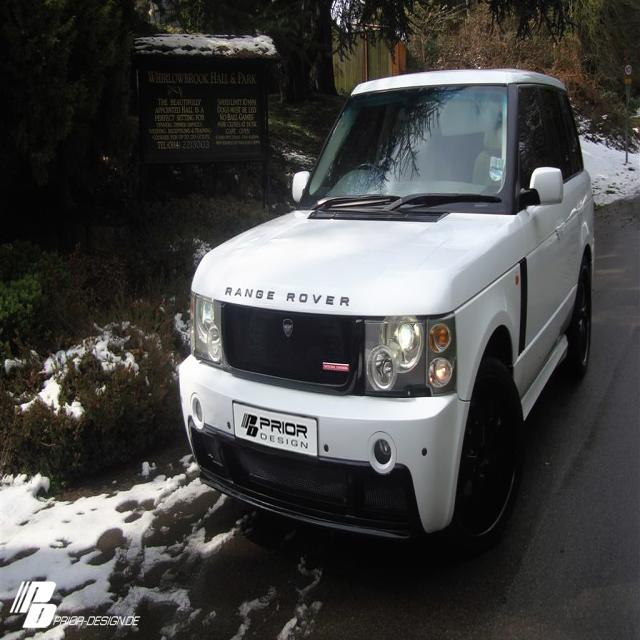car: (175, 62, 603, 554)
